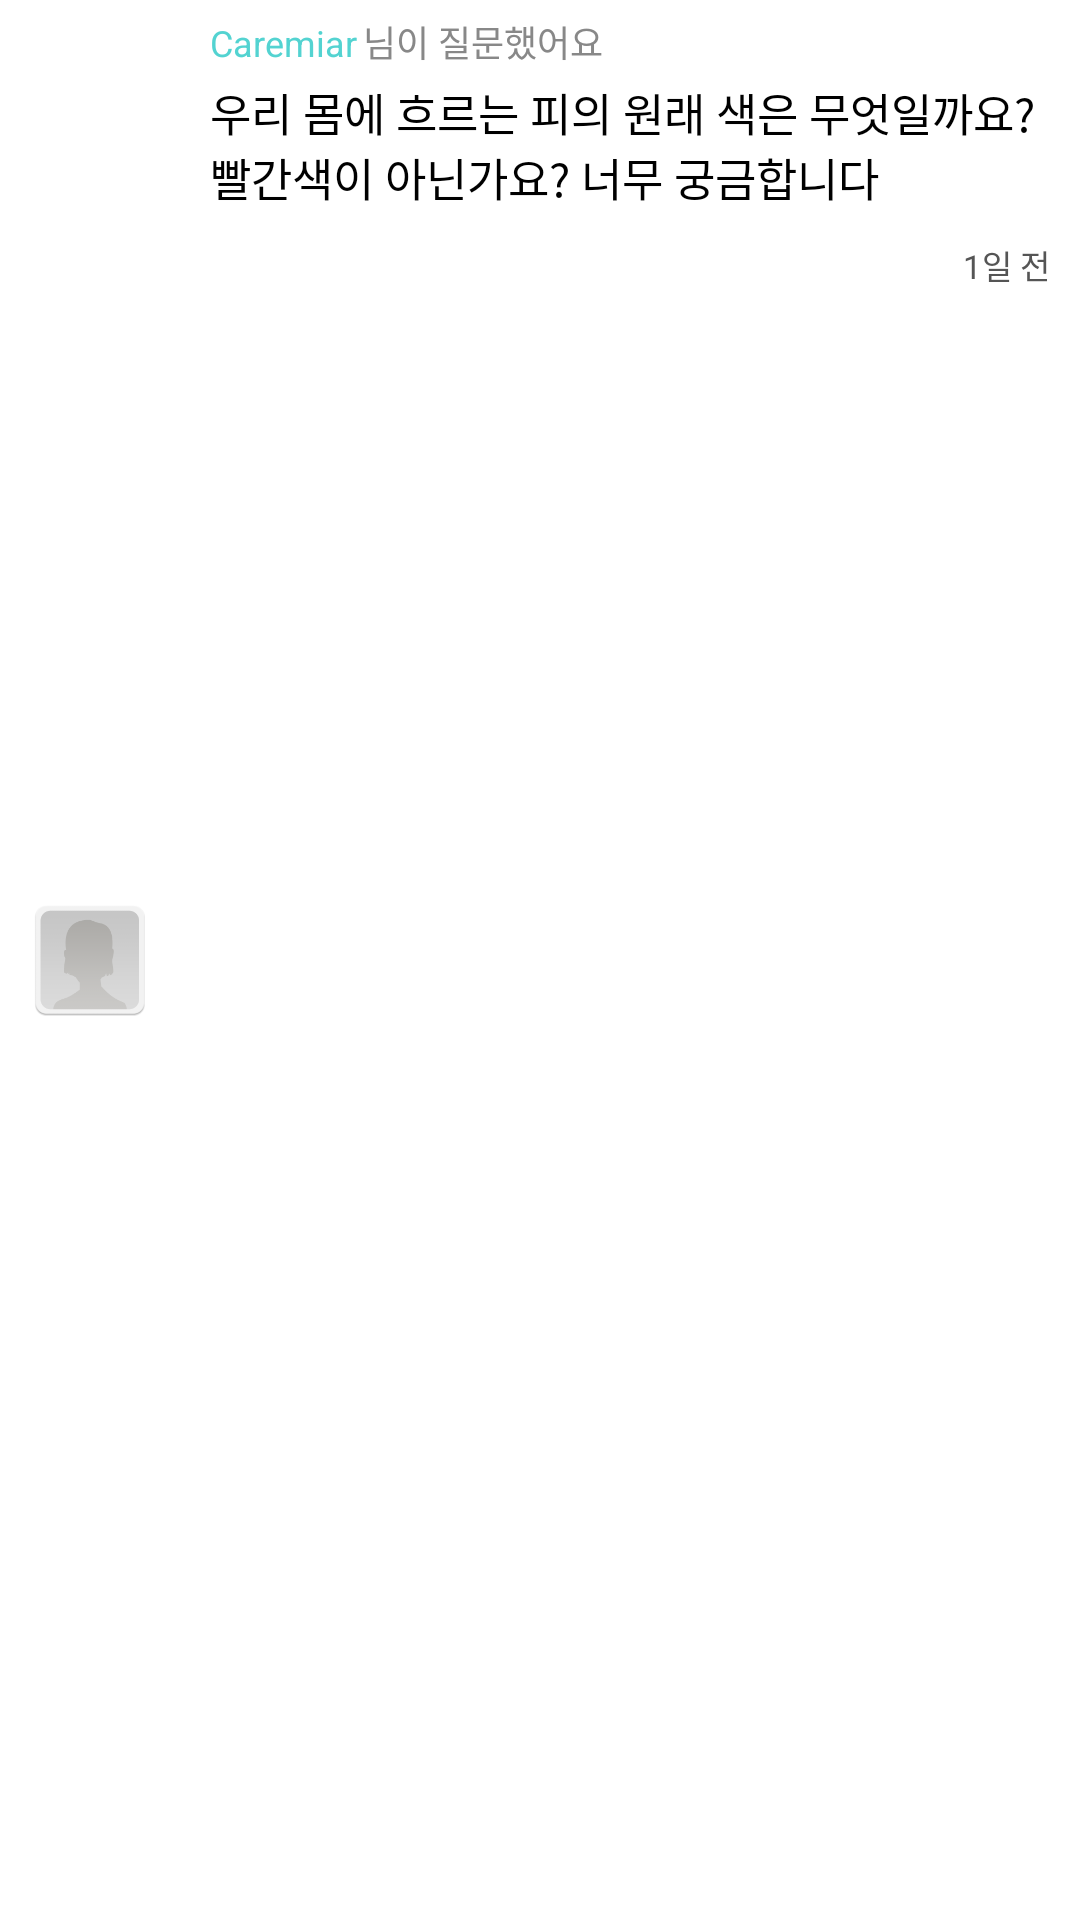

Screen size 1080 x 1920. Icon name, then its center in pixels as (x,y):
gen prf female: (89,962)
